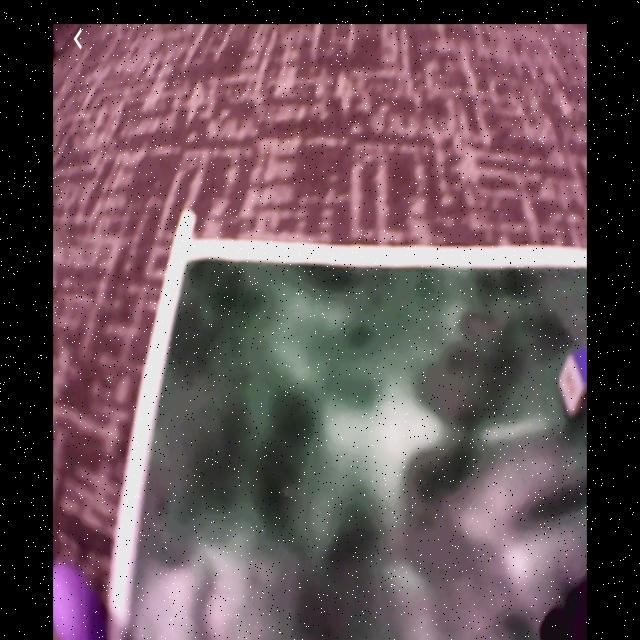ball: (55, 559, 108, 640)
